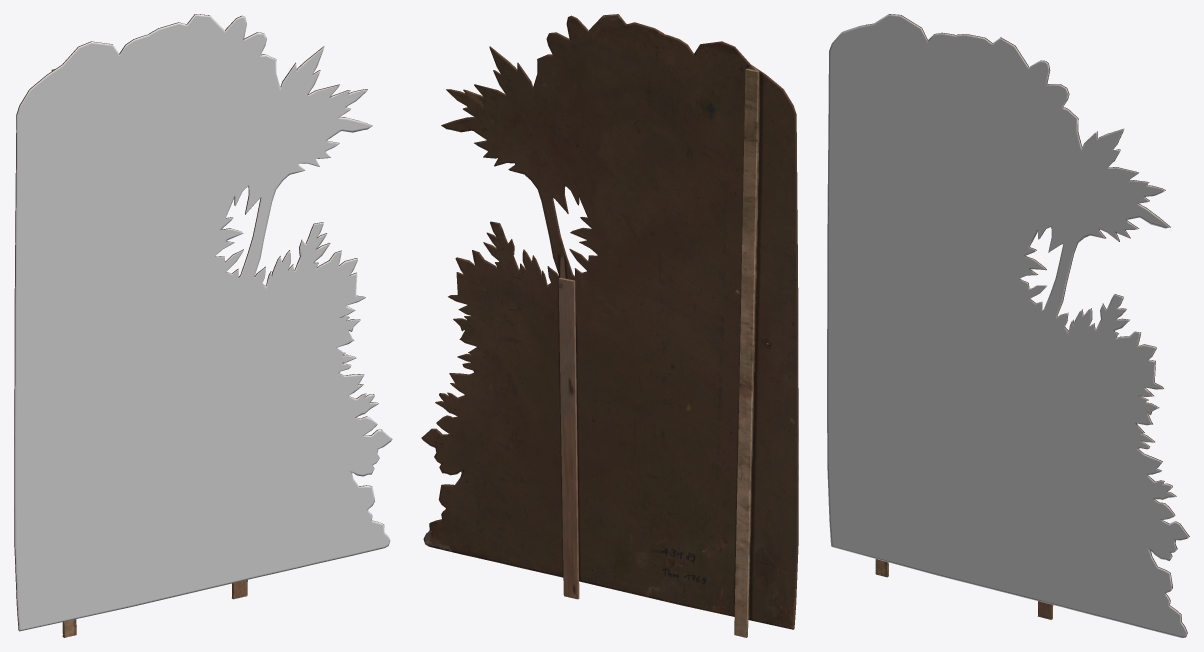
3 renders of one model, left to right at view 1: azimuth 30°, elevation 25°; view 2: azimuth 150°, elevation 25°; view 3: azimuth 330°, elevation 25°, orthographic. The views are drawn at different scales.
Visible parts, largest first — view 1: stick1; view 2: stick1; view 3: stick1.
Boxes of the visible parts, x1,y1,x2,y2 form: stick1: [14, 14, 392, 637]; stick1: [421, 14, 798, 637]; stick1: [827, 14, 1189, 637].
Bounding box in the file's own units: 67.67 × 102 × 0.7257.
